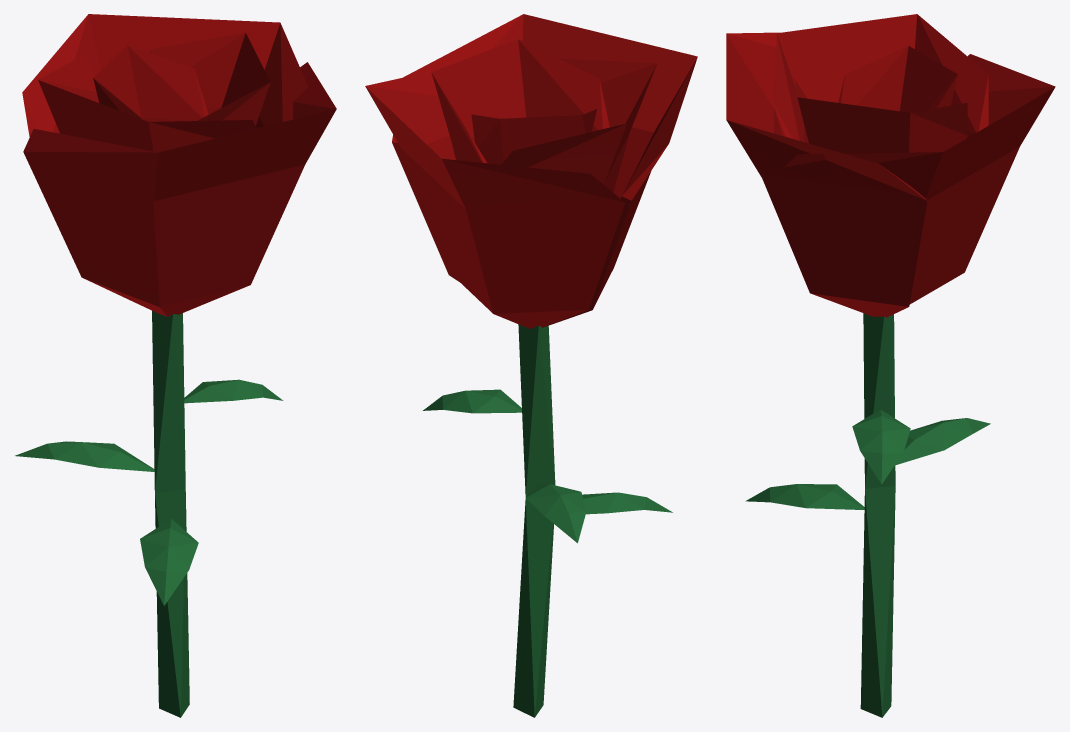
Rendered from Hilly_Prop_Flower_Rose.obj.
The picture shows the model from 3 angles, left to right: view 1: azimuth 30°, elevation 25°; view 2: azimuth 150°, elevation 25°; view 3: azimuth 270°, elevation 25°; orthographic projection. The views are drawn at different scales.
Parts seen in each view (by area): view 1: object7, object8, object4, object6, object3, object2, object1, object5; view 2: object7, object3, object8, object4, object6, object1, object5, object2; view 3: object7, object4, object8, object3, object6, object5, object2, object1.
Part boxes in pixels (x1,y1,x2,y2): object7: [22, 14, 336, 316]; object8: [152, 311, 189, 717]; object4: [38, 55, 256, 152]; object6: [93, 45, 208, 121]; object3: [150, 32, 270, 125]; object2: [140, 519, 198, 605]; object1: [15, 441, 154, 471]; object5: [184, 379, 283, 403]; object7: [365, 14, 697, 328]; object3: [431, 39, 609, 163]; object8: [513, 324, 555, 717]; object4: [502, 58, 657, 192]; object6: [471, 109, 596, 164]; object1: [526, 483, 586, 543]; object5: [423, 389, 521, 413]; object2: [582, 492, 672, 514]; object7: [726, 32, 1055, 317]; object4: [773, 14, 988, 143]; object8: [860, 313, 895, 717]; object3: [794, 79, 967, 153]; object6: [838, 46, 957, 112]; object5: [852, 410, 910, 484]; object2: [745, 484, 864, 509]; object1: [895, 418, 990, 465].
Size of the model in its own units: 0.2227 by 0.4917 by 0.2295.
